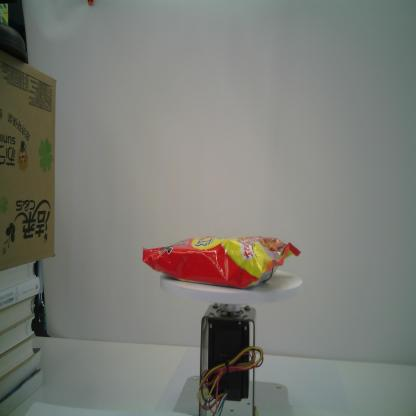Instant Noodles: (142, 234, 301, 290)
